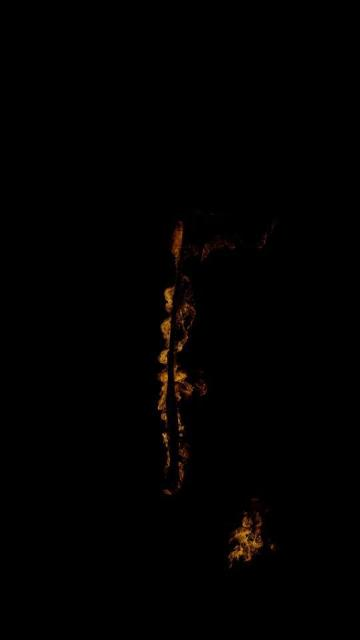fire: (157, 222, 209, 499), (225, 512, 276, 567)
